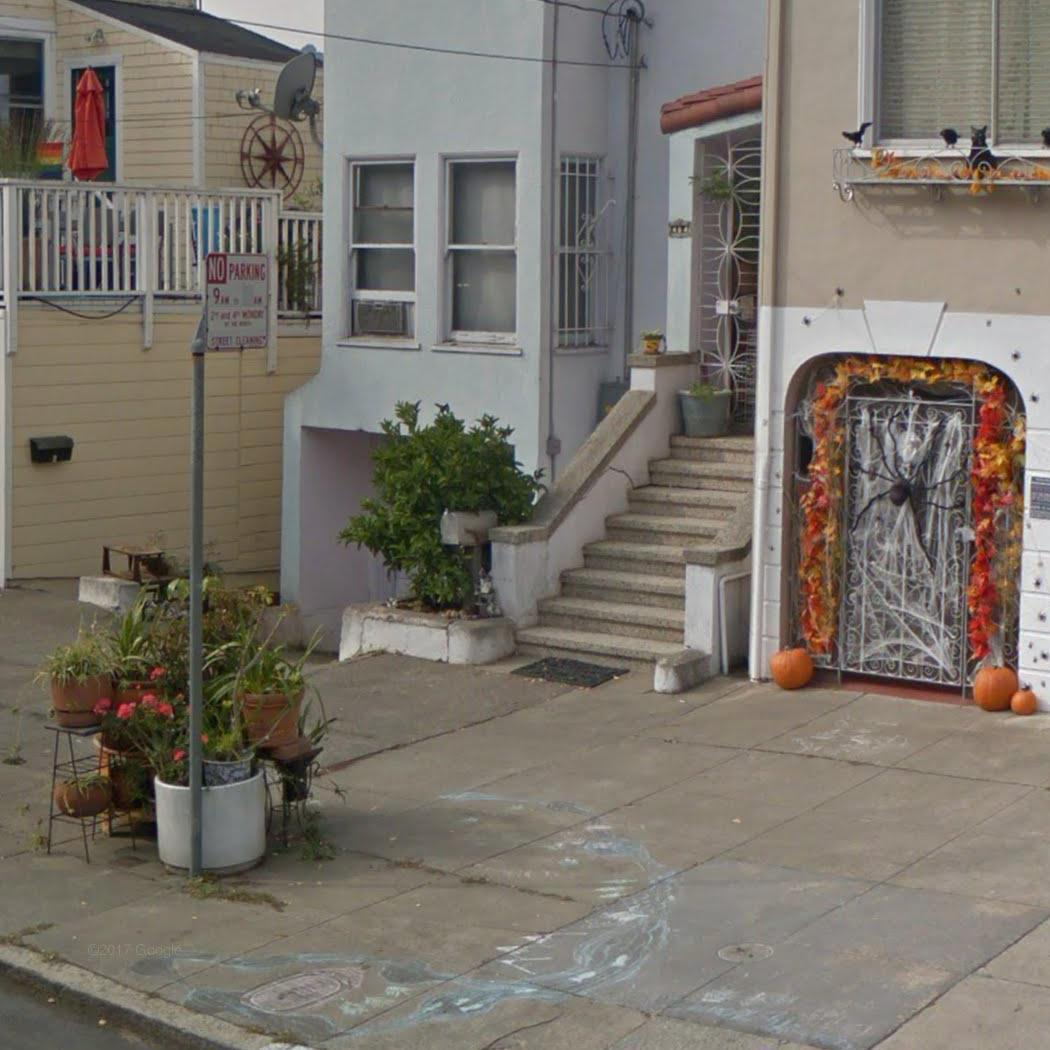No Parking: (199, 248, 276, 354)
